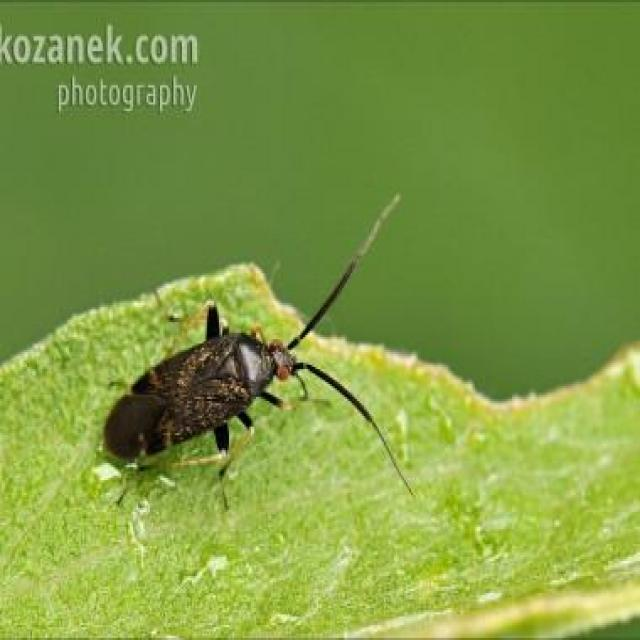Miridae-Adult-: (95, 189, 408, 510)
